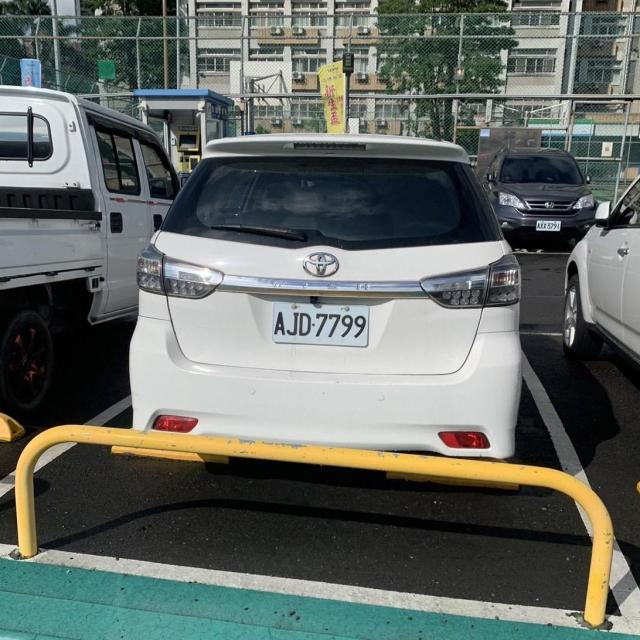W: (266, 290, 374, 355), (533, 216, 563, 236)
